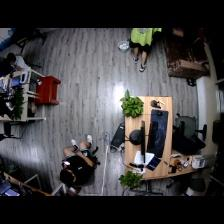normal: (61, 135, 94, 184), (128, 23, 152, 73), (6, 53, 28, 72)
